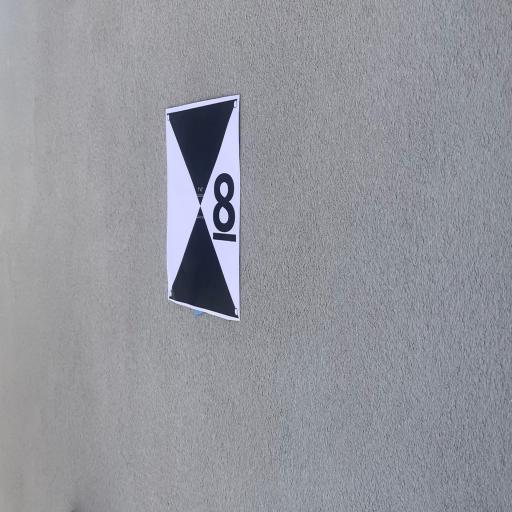target8: (166, 95, 240, 322)
